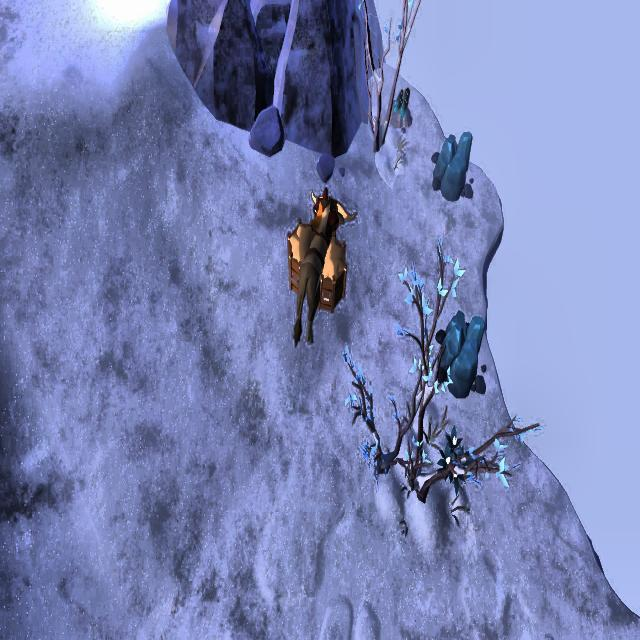fiber_t4: (438, 430, 469, 492)
ore_t4: (390, 84, 410, 122)
rock_t4: (437, 306, 488, 401), (430, 124, 474, 204)
